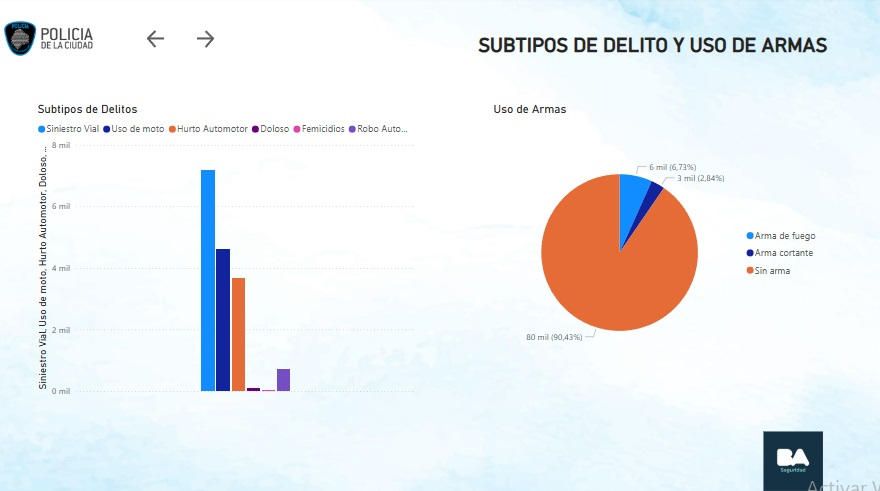

What the dashboard file says about the page in this screenshot:
{"tool":"powerbi","page":{"name":"Página 4","canvas":[1280,720],"ordinal":5},"visuals":[{"type":"image","box":[0,0,142.9,122.9],"z":0},{"type":"image","box":[1100,624.3,95.7,95.7],"z":1000},{"type":"textbox","box":[674.3,48.6,542.9,58.6],"z":2000},{"type":"actionButton","box":[206.7,41.9,70.8,40.5],"z":3000},{"type":"actionButton","box":[277.6,41.9,66.5,40.5],"z":4000},{"type":"barChart","fields":{"Y":["TablaMedidas.Cantidad_Delitos"],"Category":["Subtipo.subtipo"]},"box":[52,170.6,582.7,378.8],"z":5000},{"type":"pieChart","title":"Tipos de arma","fields":{"Y":["TablaMedidas.Cantidad_Delitos"],"Series":["Uso de arma.uso_armas"]},"box":[720,195.2,524.8,354.2],"z":6000}]}

Visuals, with their boxes on the page's 1280x720 design canvas (x1, y1, x2, y2). These are canvas units, not pixel positions in the 880x491 screenshot, which may show the page scaled, cropped or inside an application window:
image: select_region(0, 0, 143, 123)
image: select_region(1100, 624, 1196, 720)
textbox: select_region(674, 49, 1217, 107)
actionButton: select_region(207, 42, 278, 82)
actionButton: select_region(278, 42, 344, 82)
barChart - TablaMedidas.Cantidad_Delitos x Subtipo.subtipo: select_region(52, 171, 635, 549)
"Tipos de arma" pieChart: select_region(720, 195, 1245, 549)
